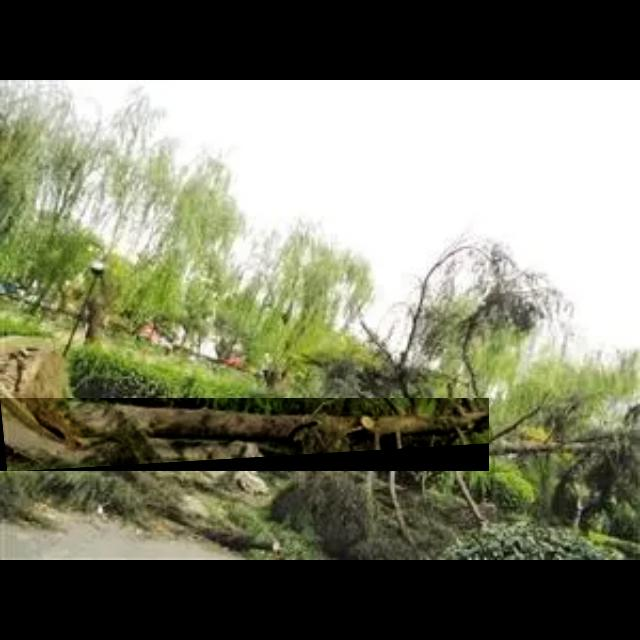Fallen Tree: (0, 398, 490, 472)
